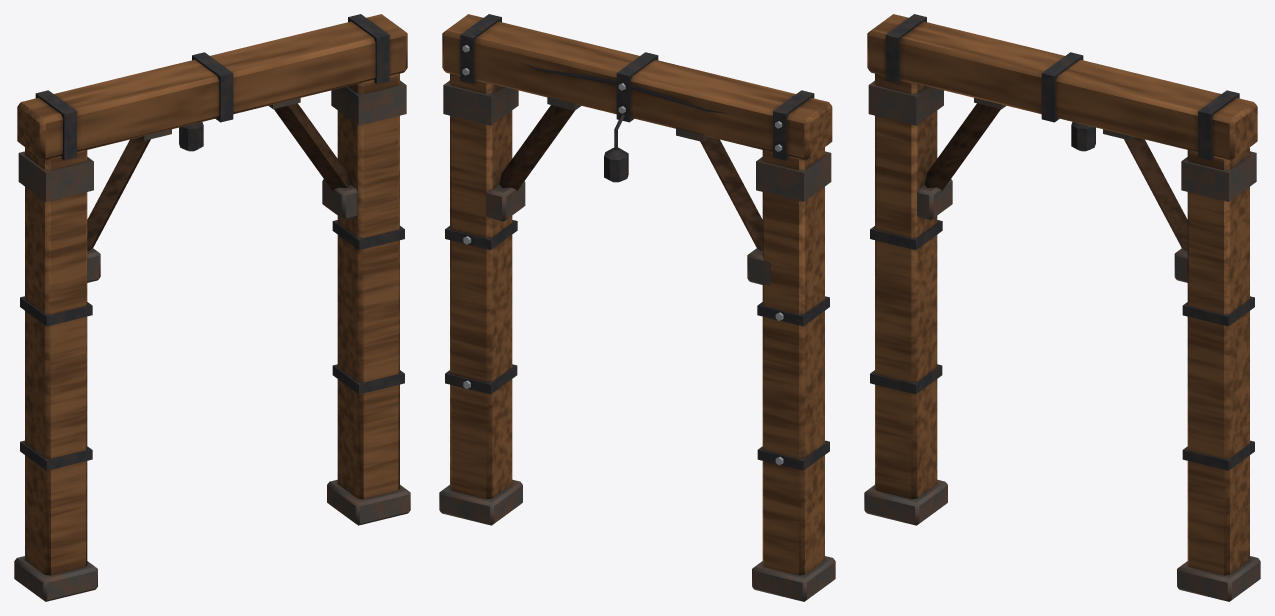
The model's file is viga_mina.fbx.
The picture shows the model from 3 angles, left to right: view 1: azimuth 30°, elevation 25°; view 2: azimuth 150°, elevation 25°; view 3: azimuth 330°, elevation 25°; orthographic projection.
Visible parts, largest first — view 1: viga_mina; view 2: viga_mina; view 3: viga_mina.
Part boxes in pixels (<box>): viga_mina: <box>14,14,410,601</box>; viga_mina: <box>439,14,835,601</box>; viga_mina: <box>864,14,1260,601</box>.
Size of the model in its own units: 4 by 5.02 by 0.8196.
2 materials, 2 textured.
